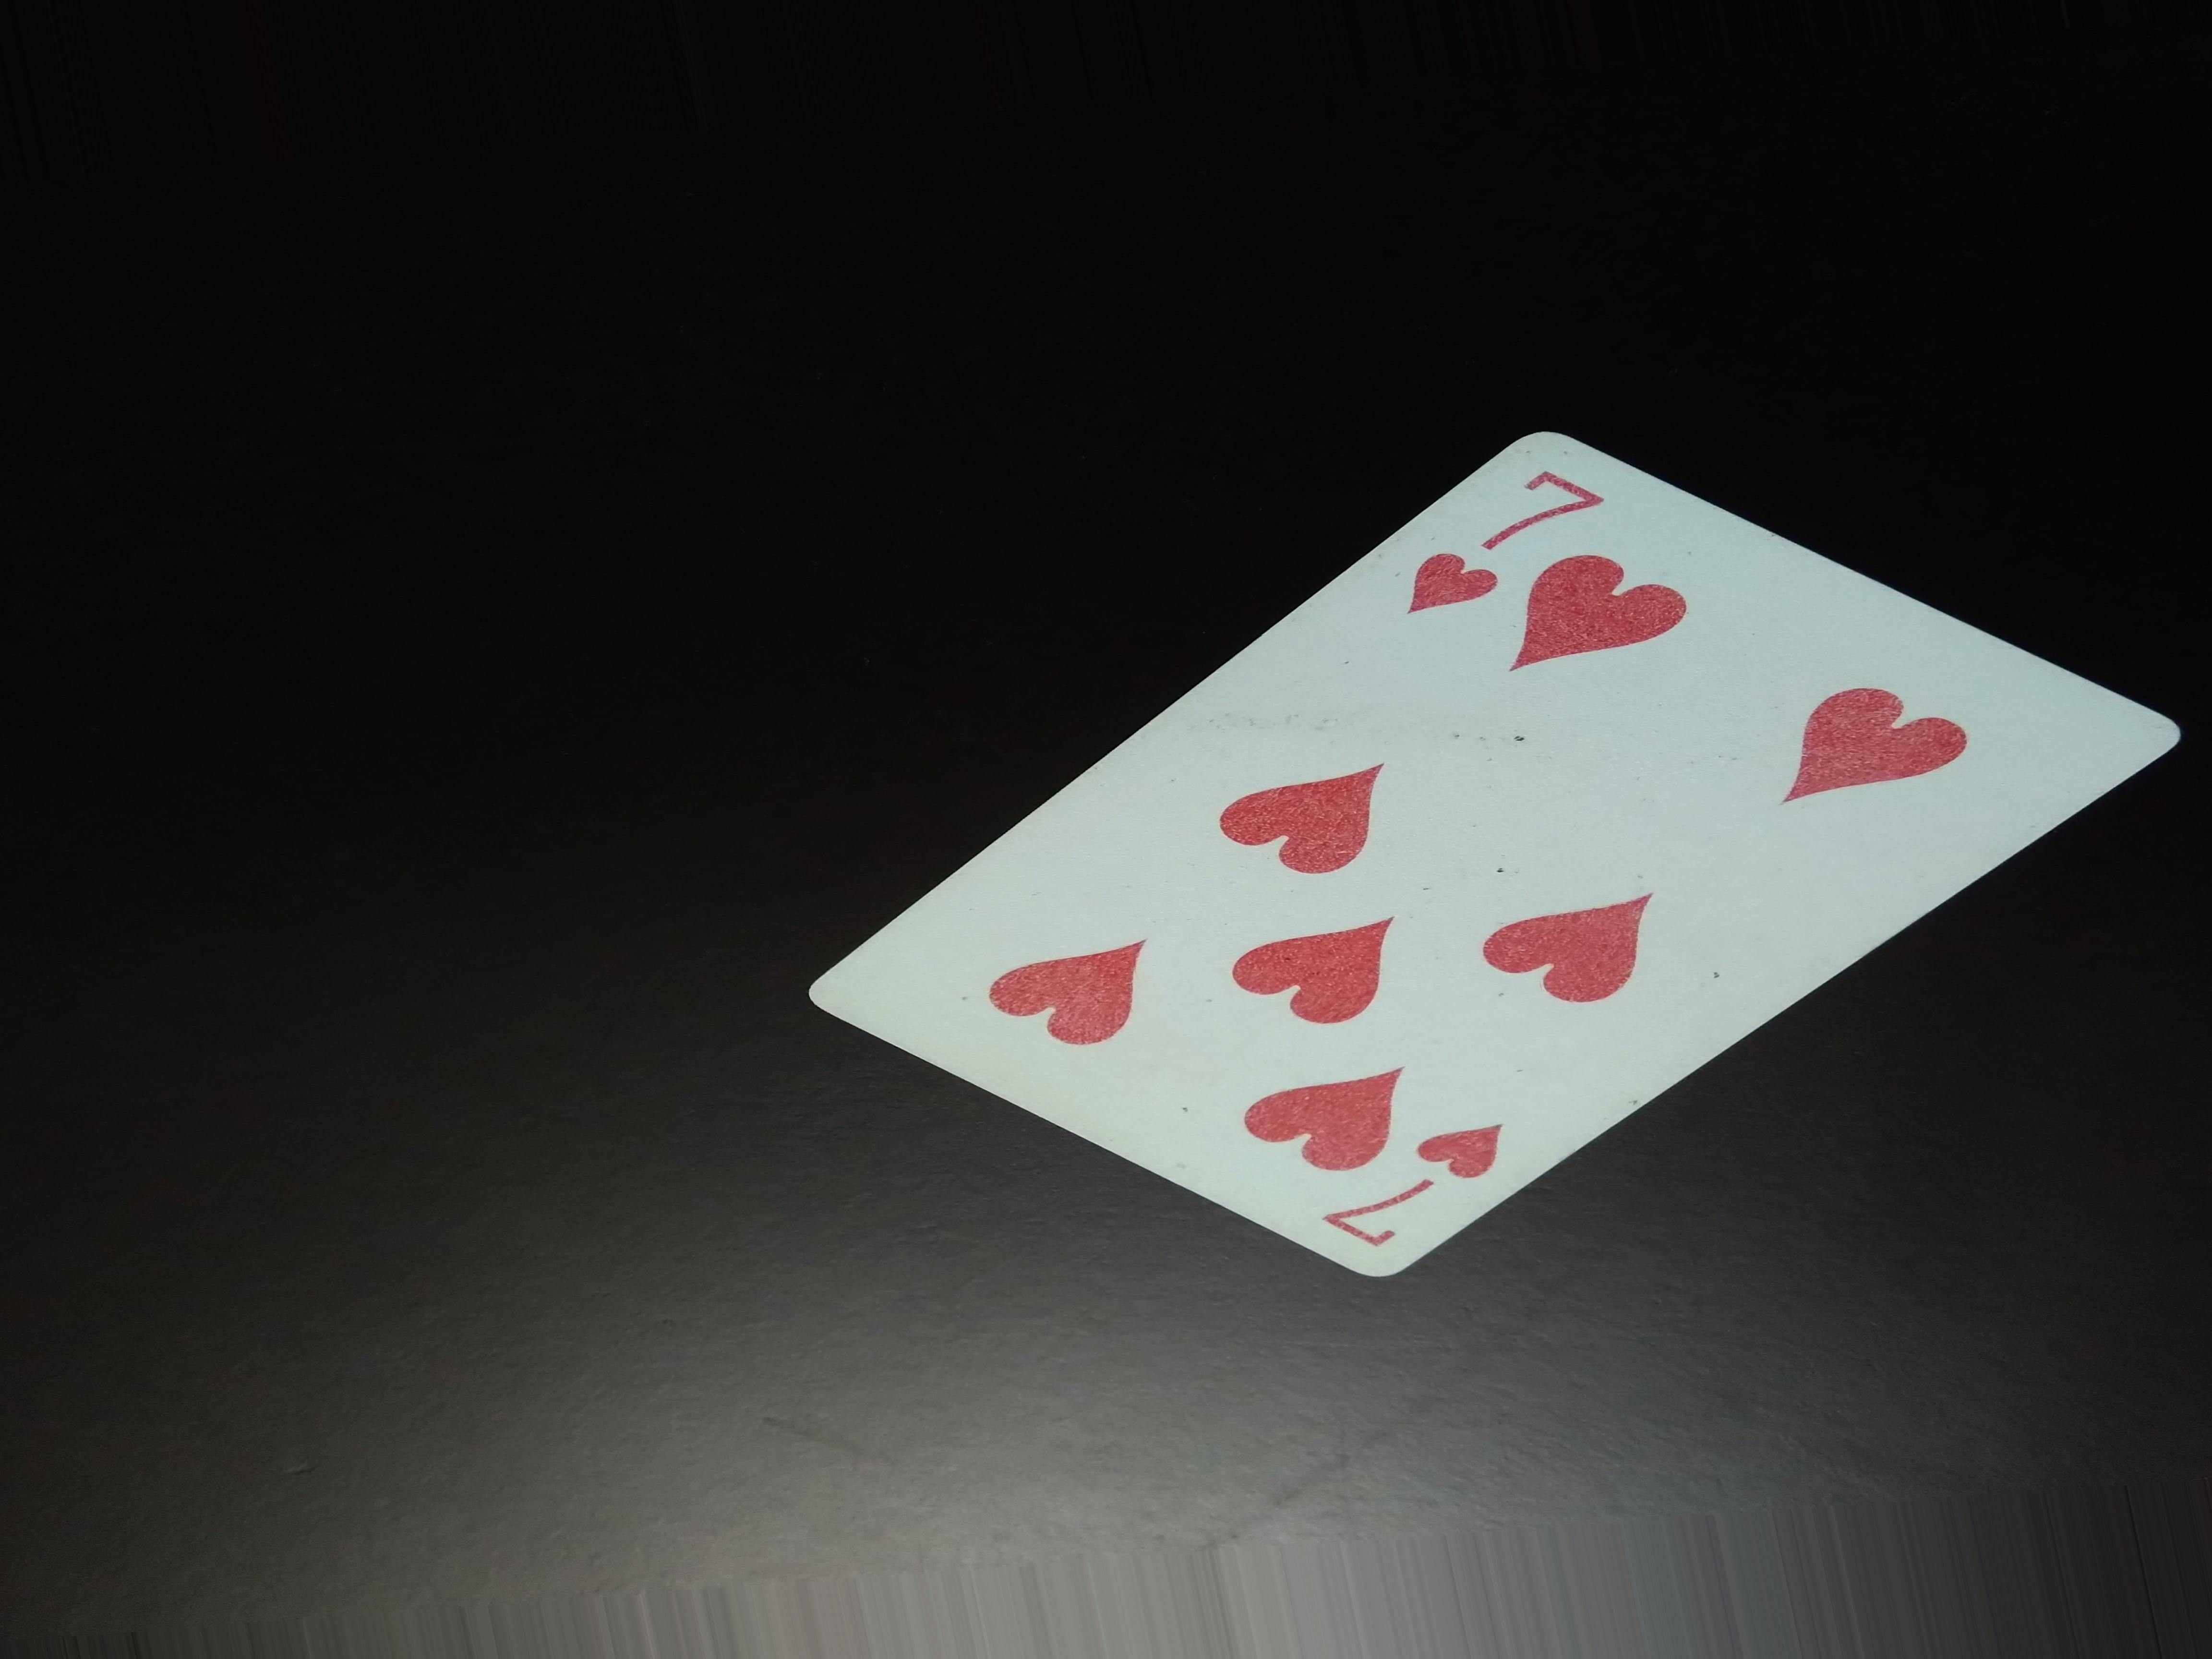7H: (1324, 1115, 1519, 1255)
